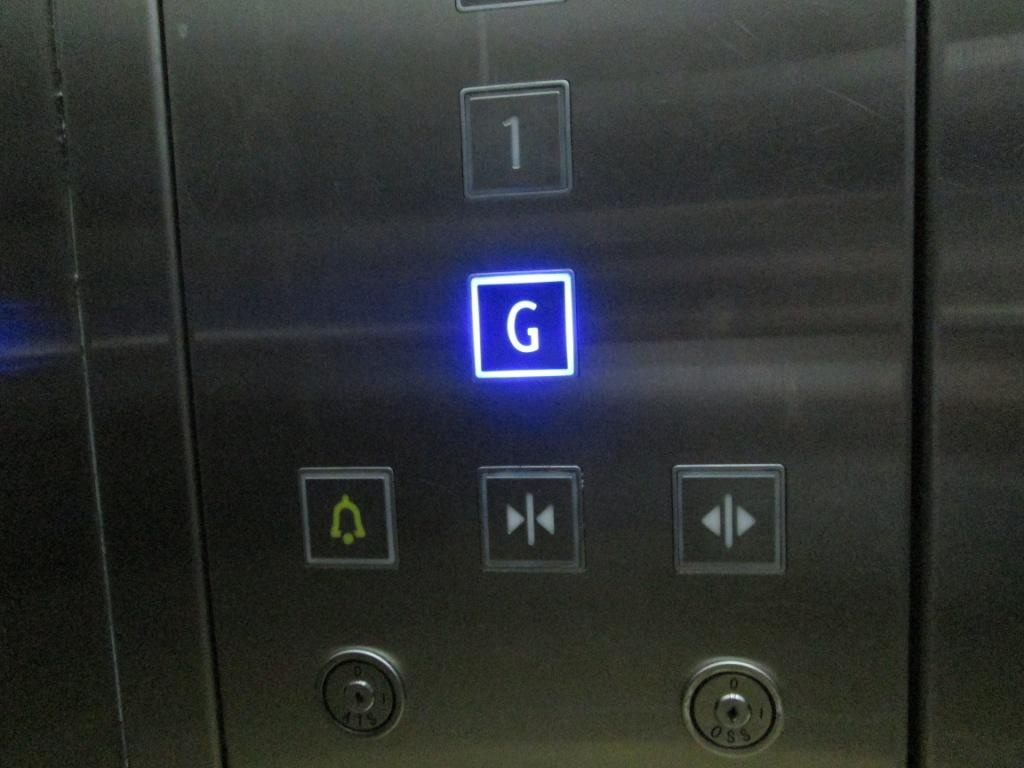1: (458, 79, 573, 205)
G: (470, 266, 578, 379)
alarm: (289, 461, 399, 574)
close: (475, 466, 586, 579)
keyhole: (680, 655, 788, 764), (314, 643, 409, 743)
open: (668, 463, 785, 577)
